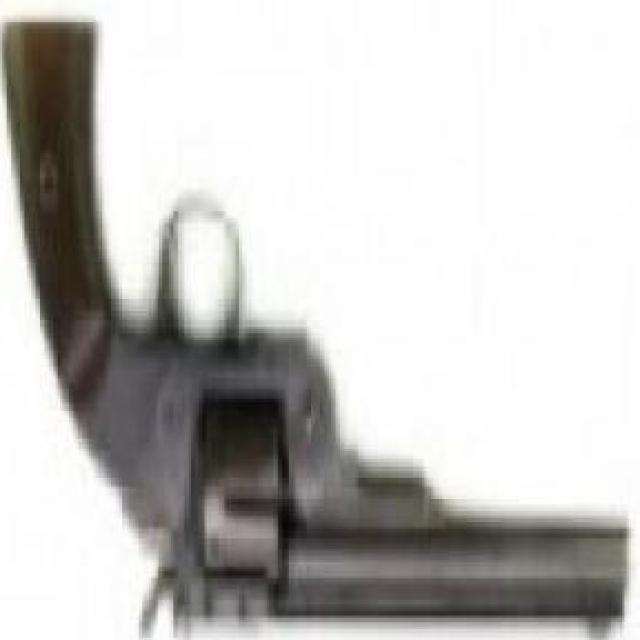pistol: (0, 18, 627, 633)
